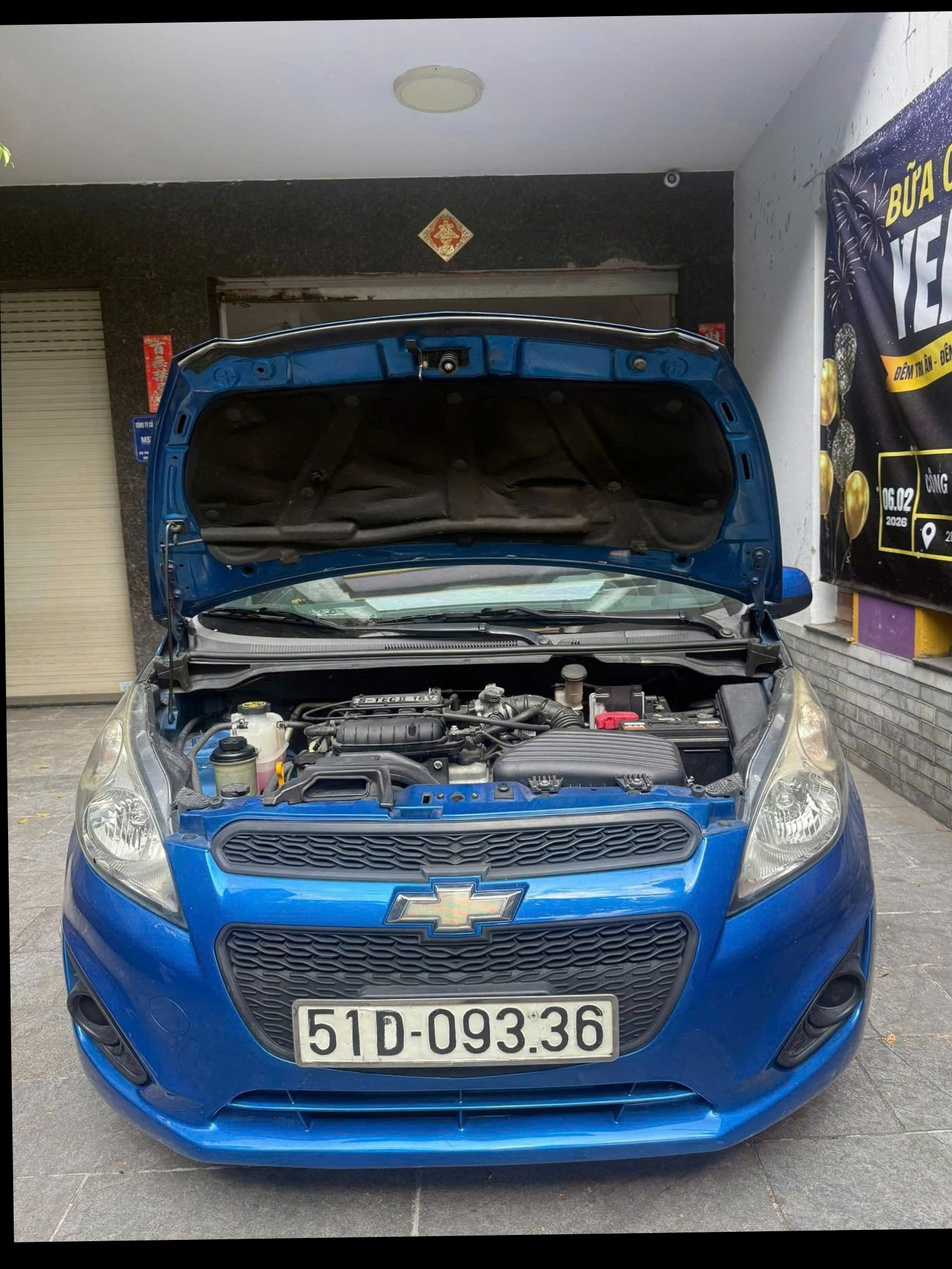Bien-so: (295, 984, 585, 1050)
